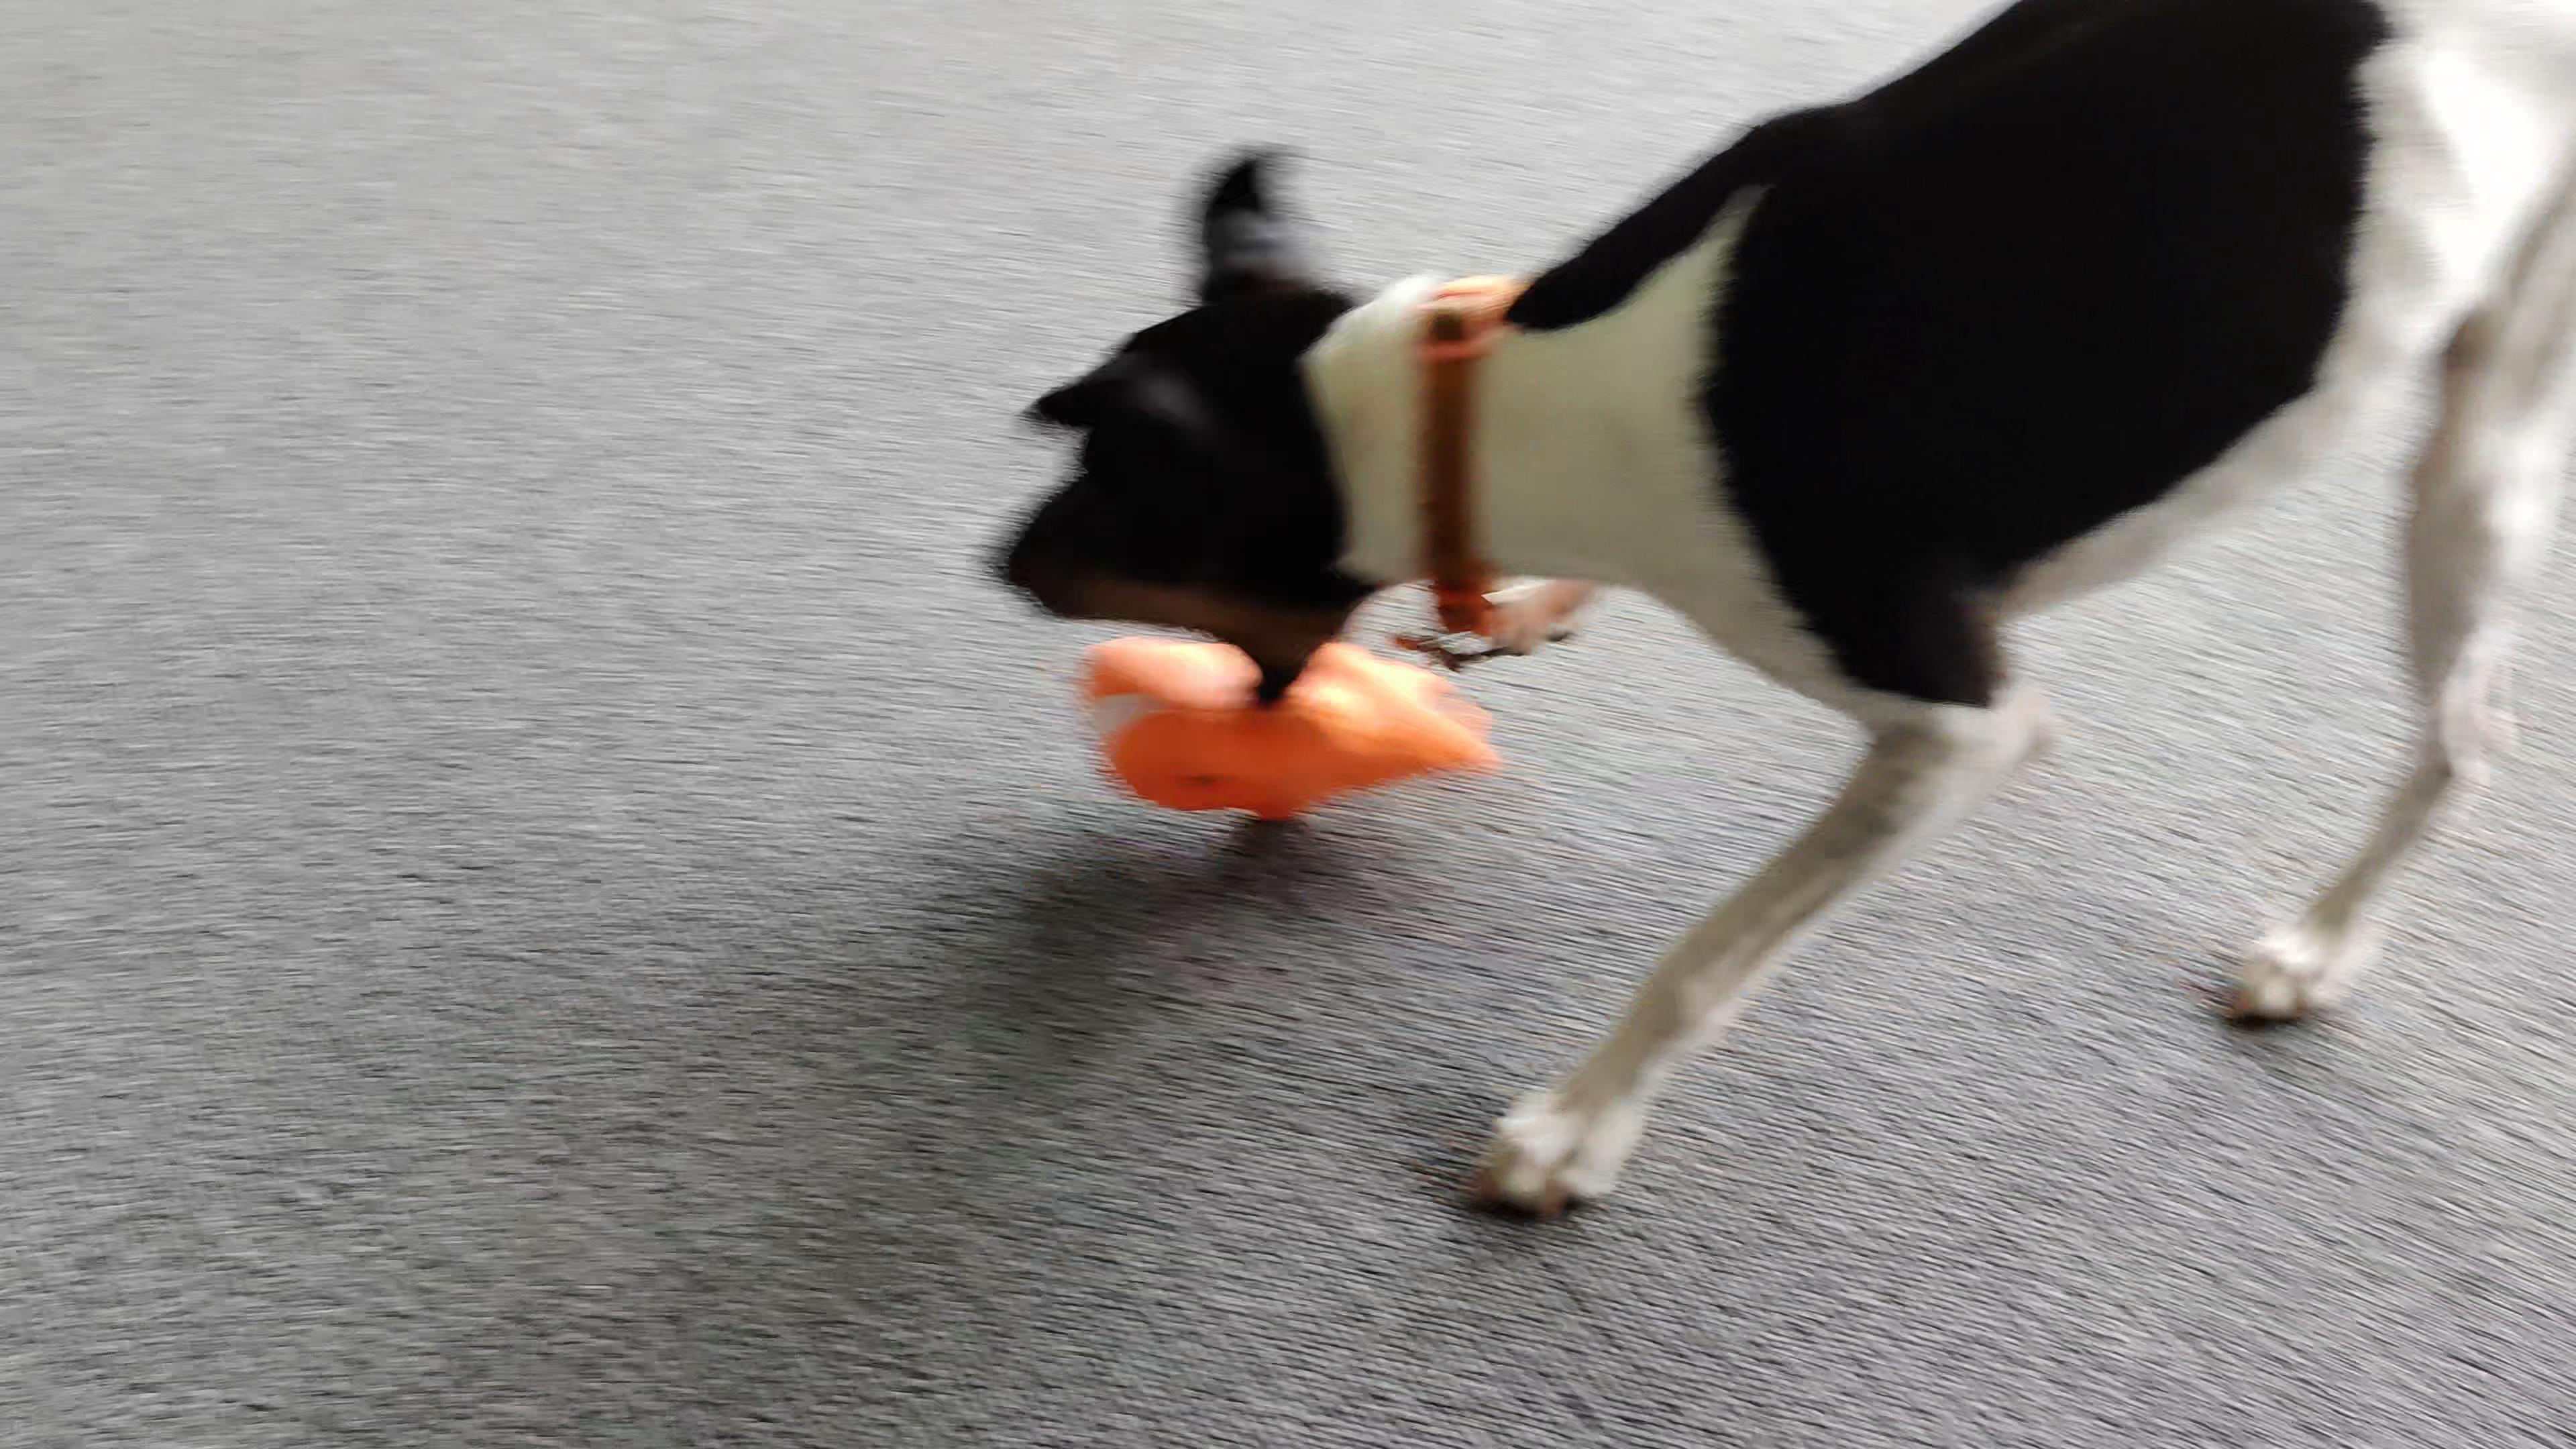Dog: (964, 0, 2576, 1224)
